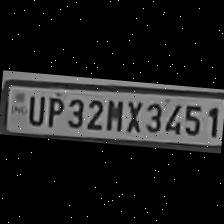1: (202, 104, 223, 138)
2: (84, 96, 106, 132)
3: (140, 98, 164, 134), (63, 94, 85, 130)
4: (162, 100, 182, 134)
5: (180, 101, 204, 137)
M: (102, 96, 125, 132)
P: (43, 93, 65, 129)
U: (23, 92, 45, 126)
X: (120, 98, 142, 134)
